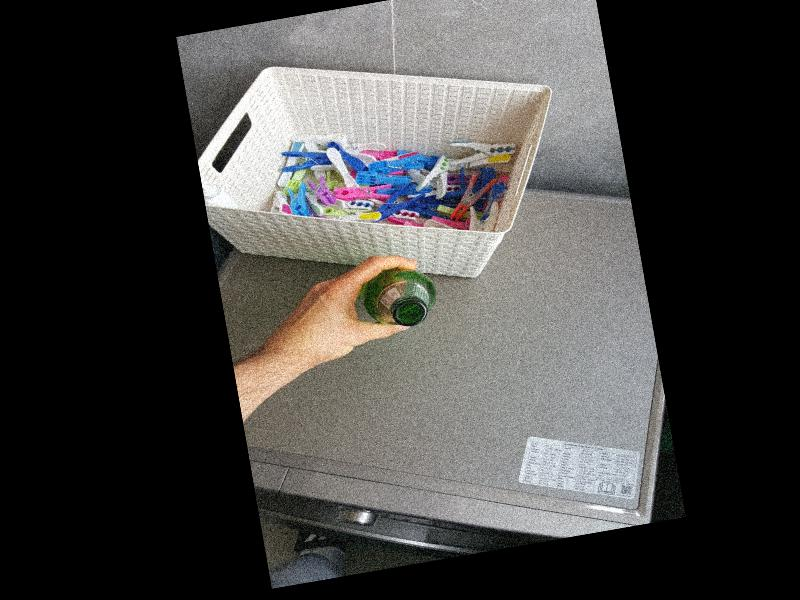Beer: (357, 262, 441, 334)
